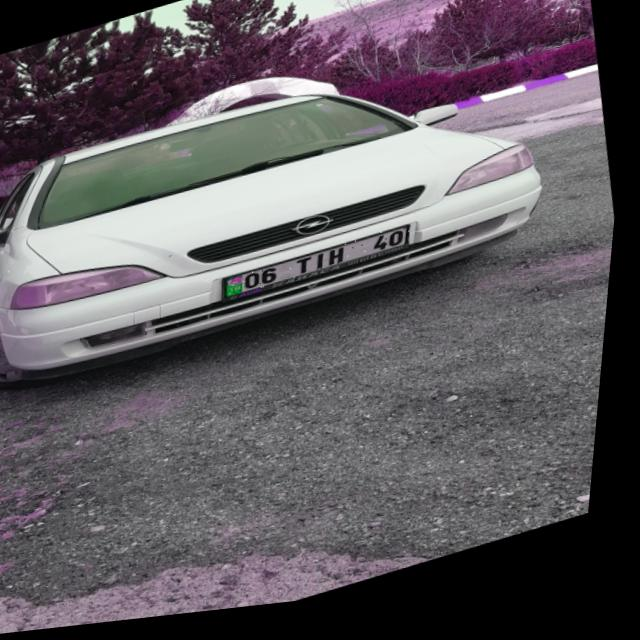plate: (227, 233, 418, 305)
